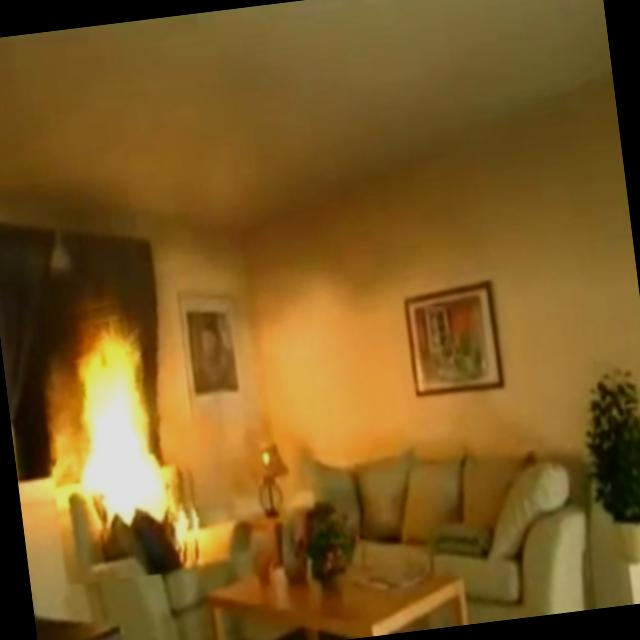fire: (50, 320, 171, 538)
